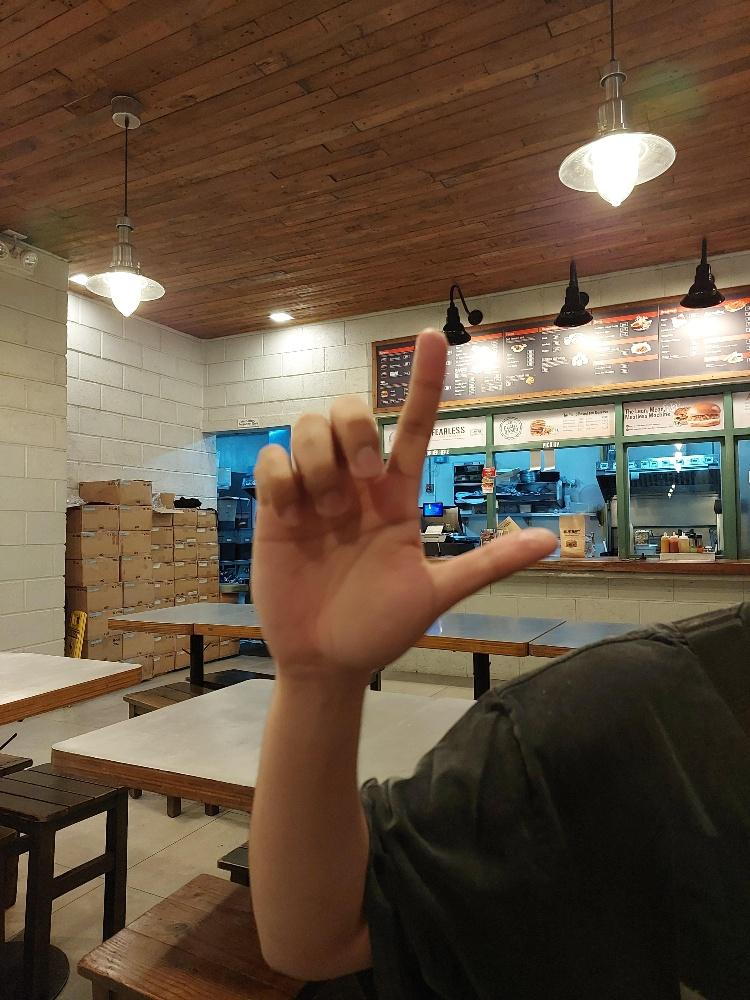l: (246, 323, 560, 686)
